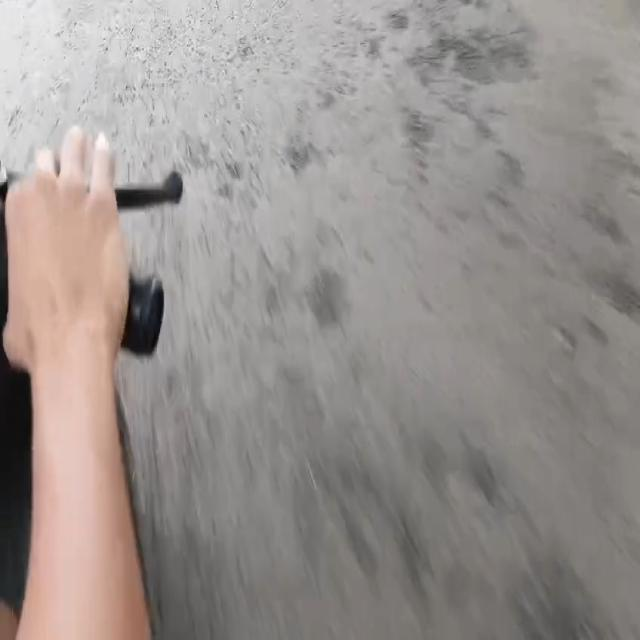road-pothole: (420, 16, 540, 88)
